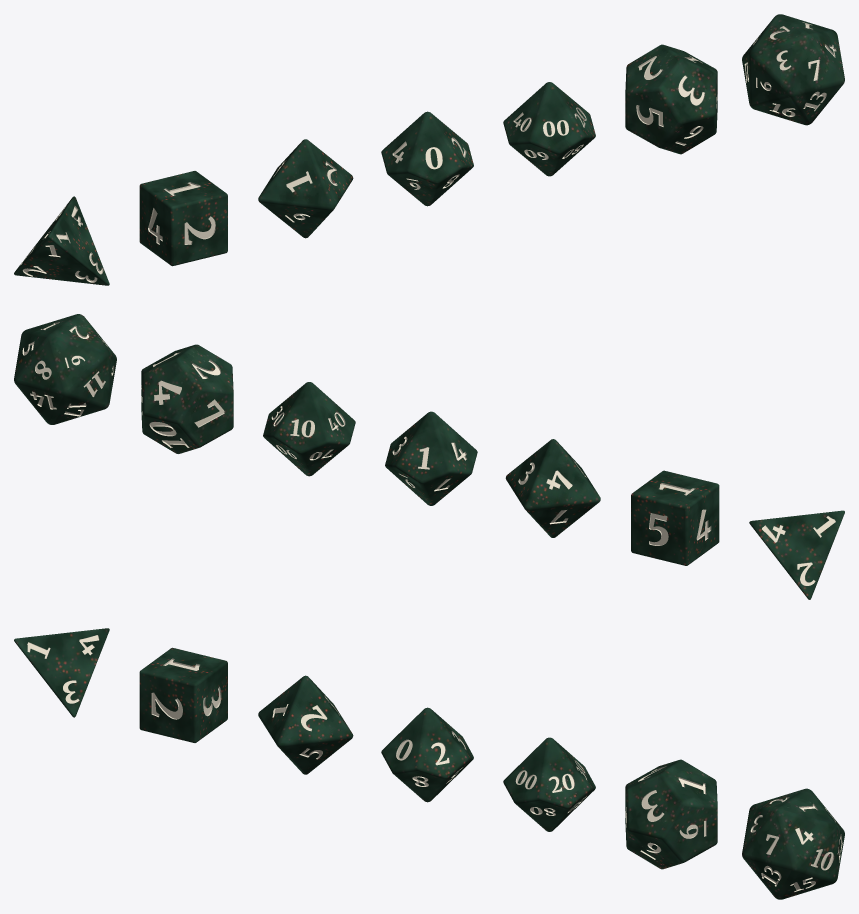
File: bloodstone.glb
3 views of the same model, one above another, from view 1: azimuth 30°, elevation 25°; view 2: azimuth 150°, elevation 25°; view 3: azimuth 330°, elevation 25° (orthographic).
Visible parts, largest first — view 1: d20, d12, d6, d100, d10, d8, d4; view 2: d20, d12, d6, d100, d10, d8, d4; view 3: d20, d12, d6, d8, d10, d100, d4.
Part boxes in pixels (<box>): d20: <box>742,14,844,125</box>; d12: <box>625,44,717,154</box>; d6: <box>139,171,227,266</box>; d100: <box>503,82,595,176</box>; d10: <box>381,111,473,206</box>; d8: <box>258,139,353,238</box>; d4: <box>14,196,109,285</box>; d20: <box>14,314,116,424</box>; d12: <box>141,344,233,453</box>; d6: <box>631,470,719,565</box>; d100: <box>263,382,355,476</box>; d10: <box>385,411,477,505</box>; d8: <box>505,439,600,537</box>; d4: <box>749,510,844,599</box>; d20: <box>742,788,844,899</box>; d12: <box>625,759,717,869</box>; d6: <box>139,647,227,742</box>; d8: <box>258,675,353,774</box>; d10: <box>381,707,473,802</box>; d100: <box>503,737,595,831</box>; d4: <box>14,628,109,717</box>.
Bounding box in the file's own units: 21.14 × 2.47 × 2.47.
14 materials, 7 textured.
